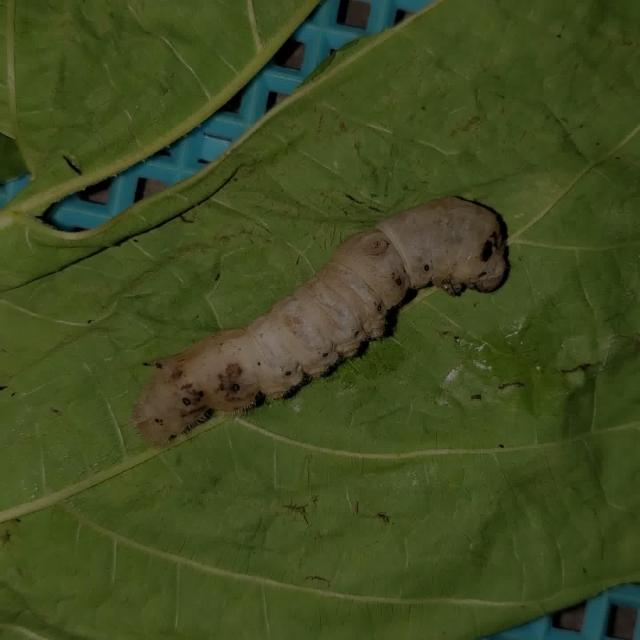Grasserie: (131, 185, 527, 449)
